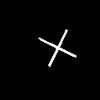single_crochet: (39, 30, 75, 65)
